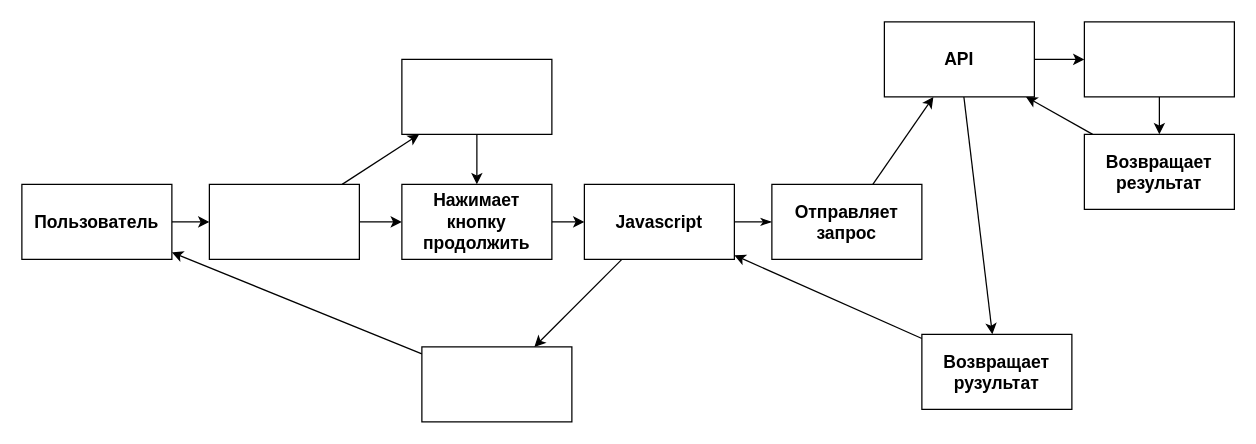
Image size: 1256x444. Some labels were removed from this diagram. The shapes that lost their labels are listed below. From the top down, each one's centre as x and y in pixels, then its label:
At (1158,59): "Обрабатывает данные".
At (476,96): "Оплачивает курс".
At (283,221): "Выбирает курс".
At (496,384): "Обновляет интерфейс".
